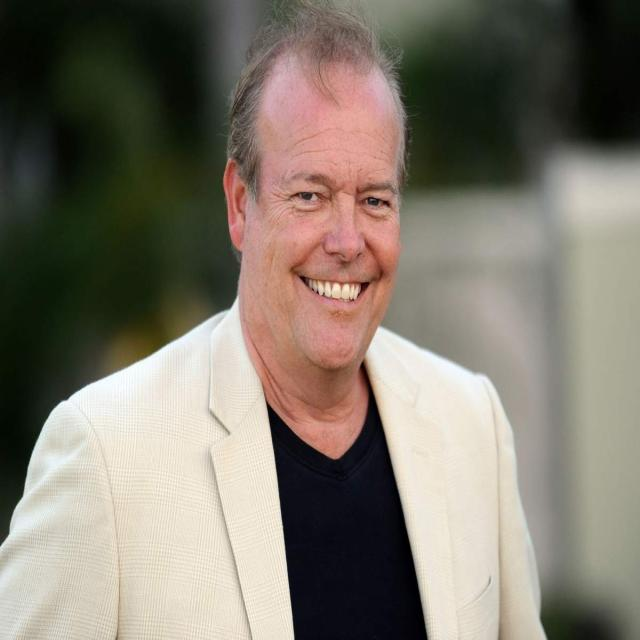mobile_phonerotation: (1, 1, 550, 638)
